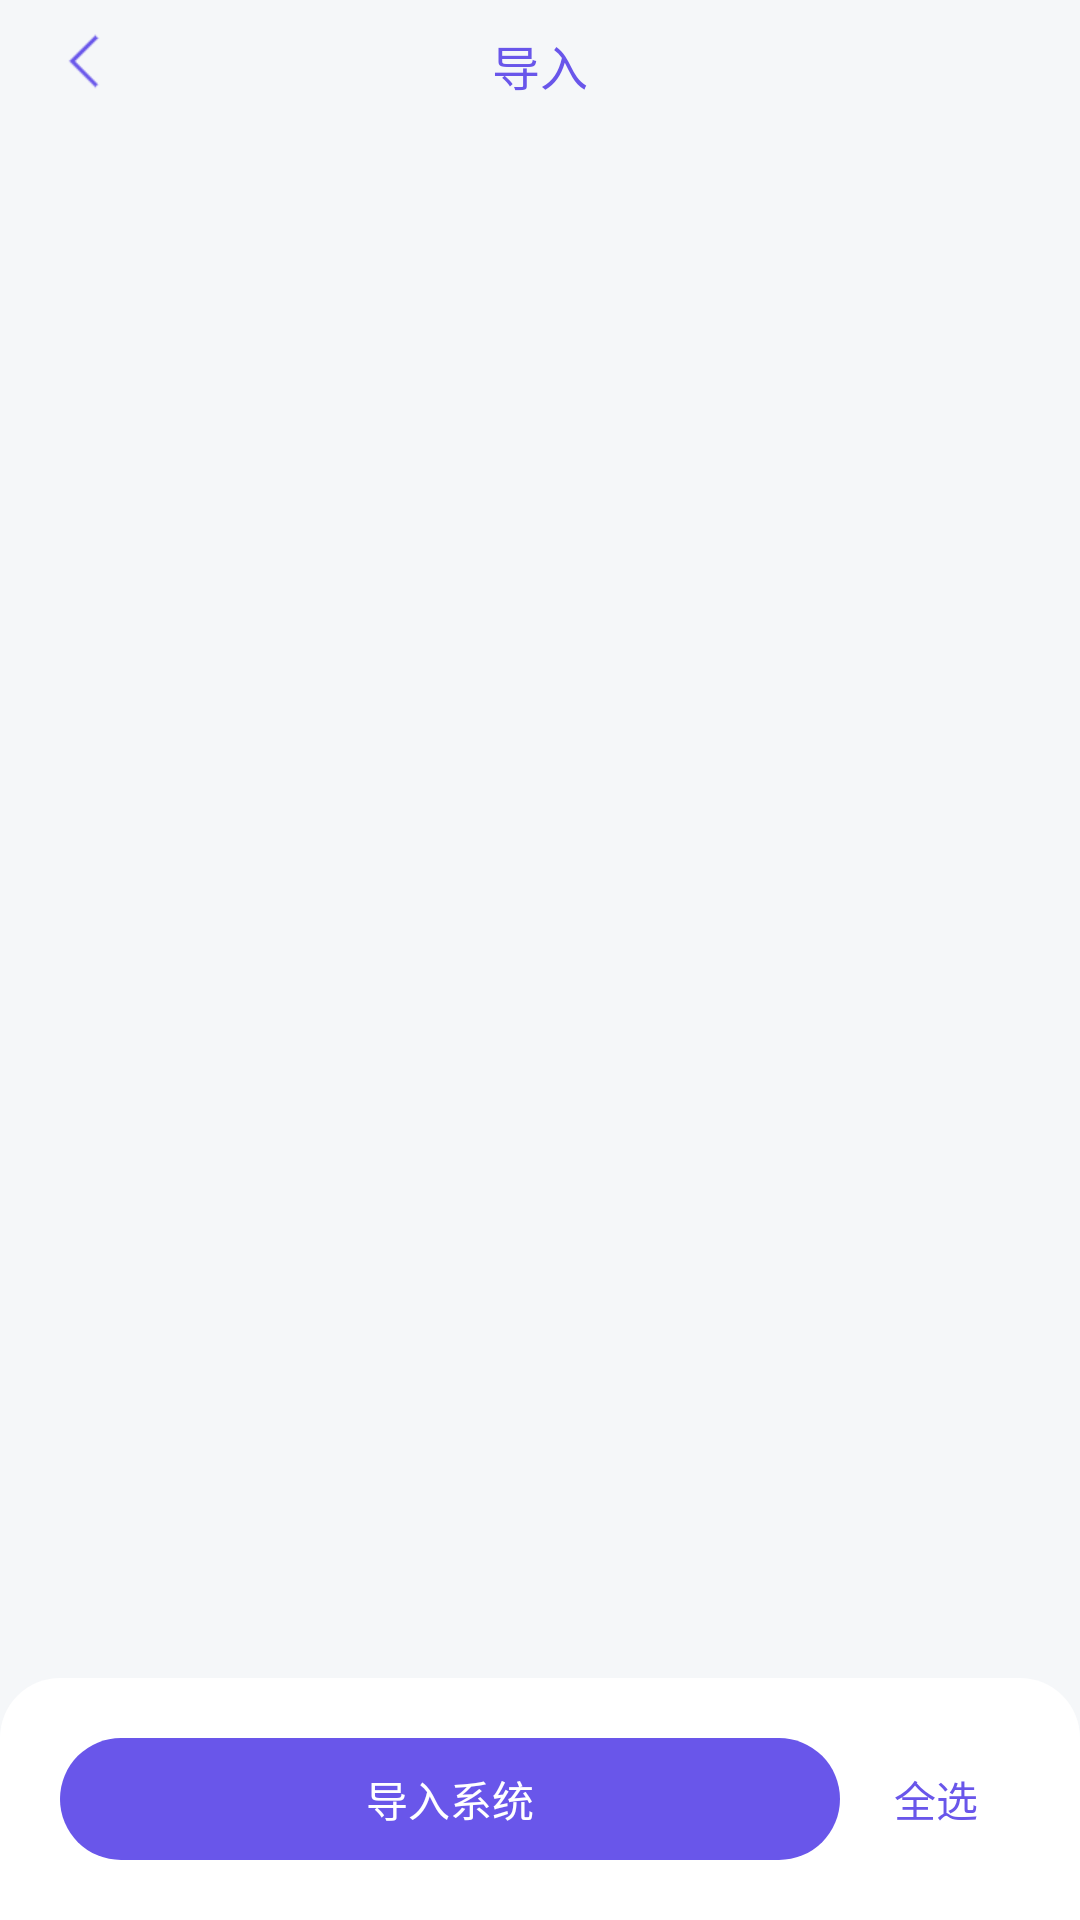

Screen size 1080px x 1920px. Icon name, then its box in pixels as bbox=[x1, y1, x2, y2]:
back: bbox=[69, 35, 99, 88]
